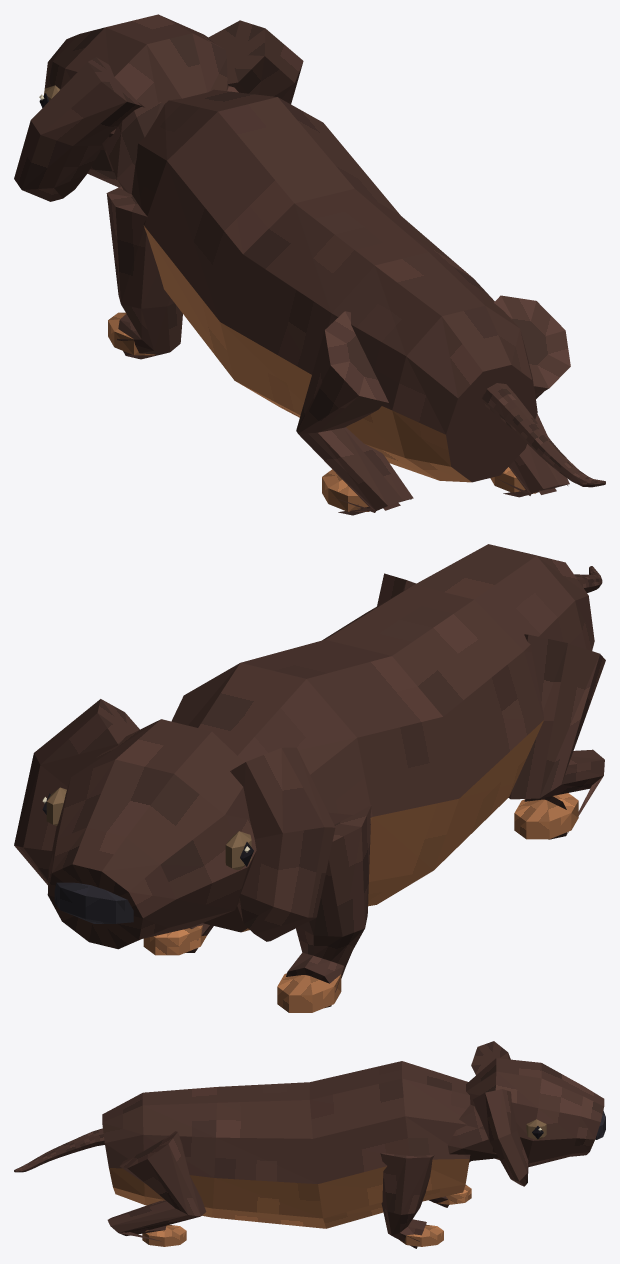
Rendered from mon_dog_dachshund_pup.glb.
3 renders of one model, top to bottom at view 1: azimuth 30°, elevation 25°; view 2: azimuth 150°, elevation 25°; view 3: azimuth 270°, elevation 25°, orthographic. The views are drawn at different scales.
Visible parts, largest first — view 1: closed_body; view 2: closed_body; view 3: closed_body.
Boxes of the visible parts, x1,y1,x2,y2 form: closed_body: [14, 14, 605, 515]; closed_body: [14, 544, 605, 1012]; closed_body: [14, 1041, 605, 1248].
Bounding box in the file's own units: 0.1267 × 0.1226 × 0.4013.
1 material, 1 textured.
